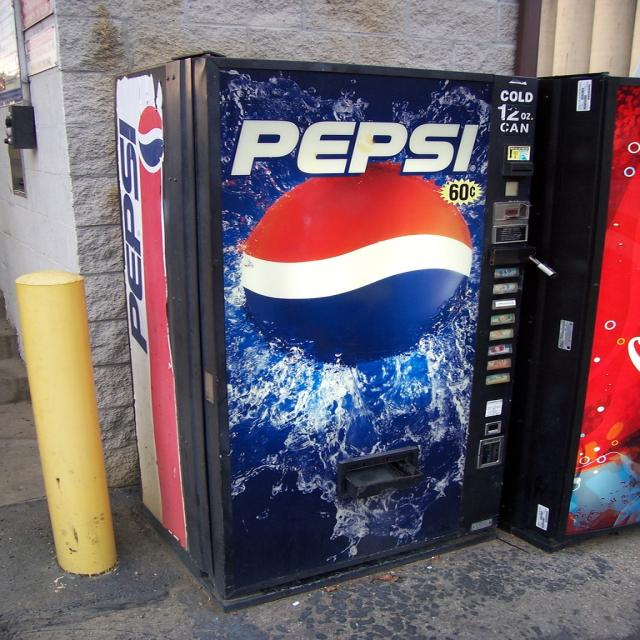pepsi: (233, 165, 476, 373), (135, 106, 170, 170)
